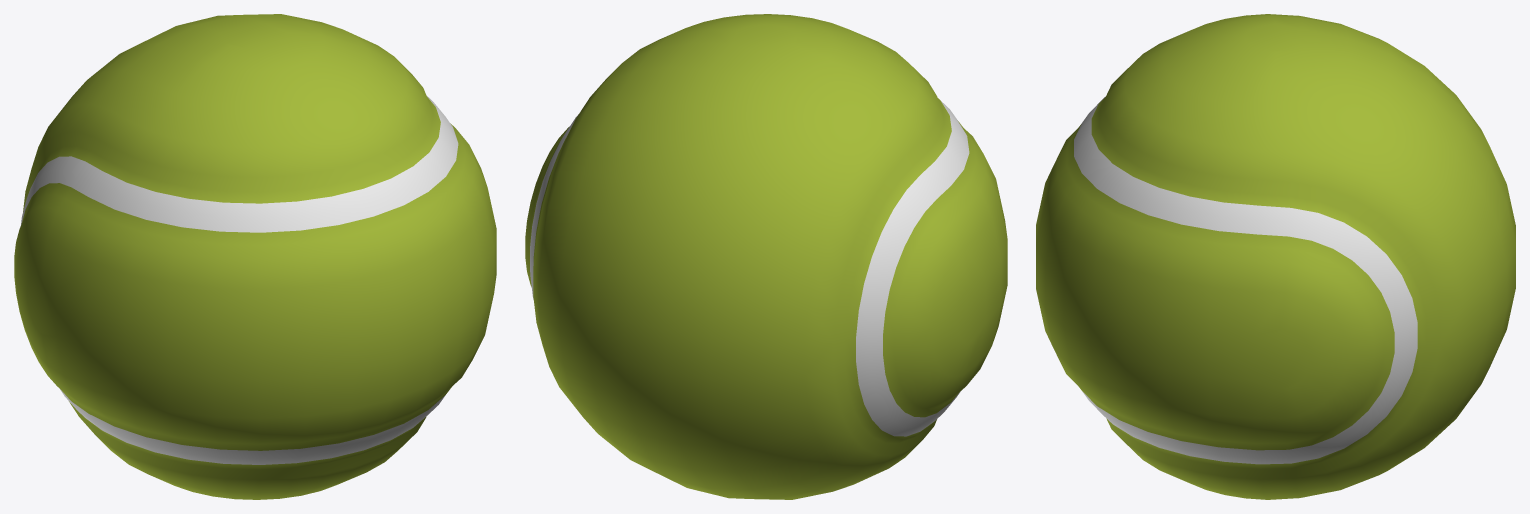
File: tennisLOW1to1.glb
3 views of the same model, side by side, from view 1: azimuth 30°, elevation 25°; view 2: azimuth 150°, elevation 25°; view 3: azimuth 270°, elevation 25° (orthographic).
Parts seen in each view (by area): view 1: tennisV2; view 2: tennisV2; view 3: tennisV2.
Boxes of the visible parts, x1=… form: tennisV2: x1=14, y1=14, x2=496, y2=499; tennisV2: x1=525, y1=14, x2=1007, y2=499; tennisV2: x1=1036, y1=14, x2=1515, y2=499.
Size of the model in its own units: 0.1633 by 0.1636 by 0.1622.
